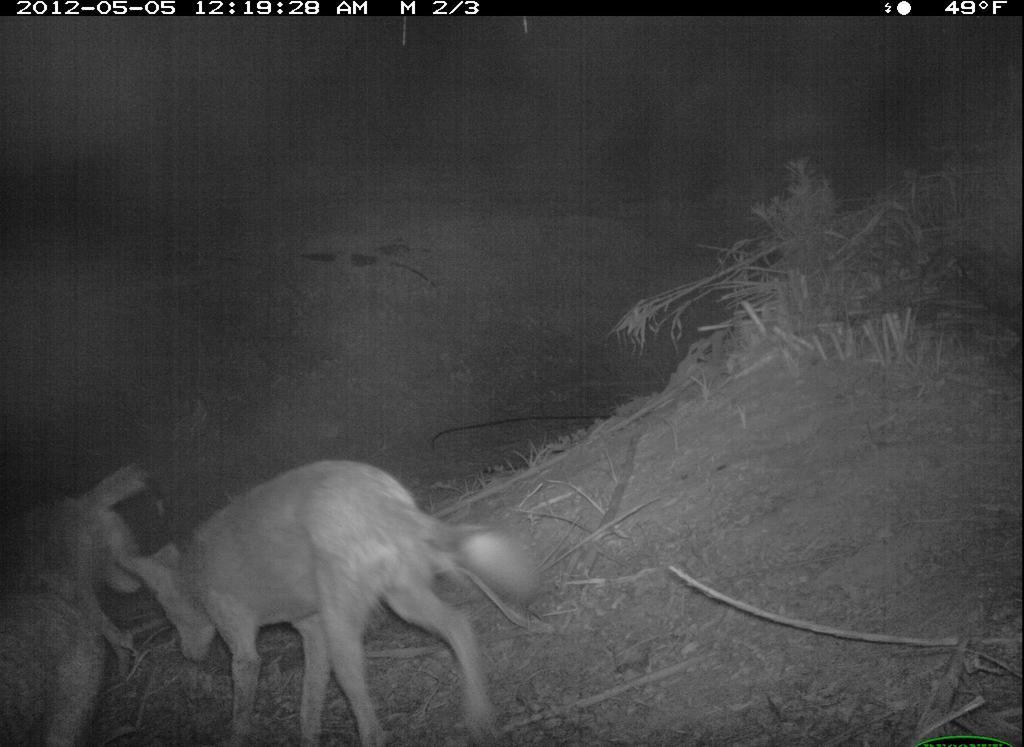coyote: (123, 455, 539, 747)
